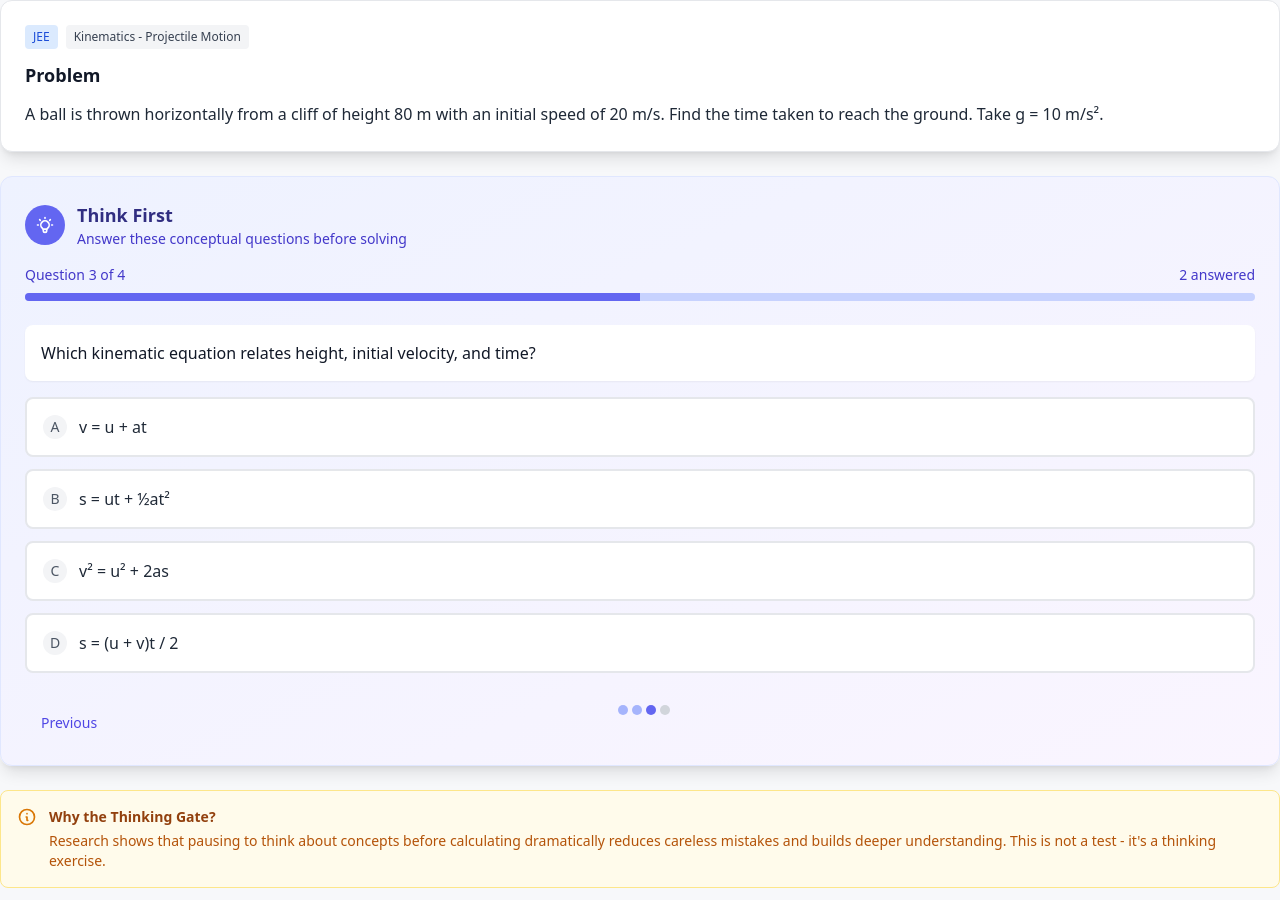
Test: DemoThinkingGate › Question Navigation › allows navigating back with Previous button
Check: the text "Which kinematic equation relates height, initial velocity, and time?" is shown, box x1=41 y1=342 x2=536 y2=364
# Click Previous
Click the button "Previous": (69, 723) x1=25 y1=705 x2=113 y2=741
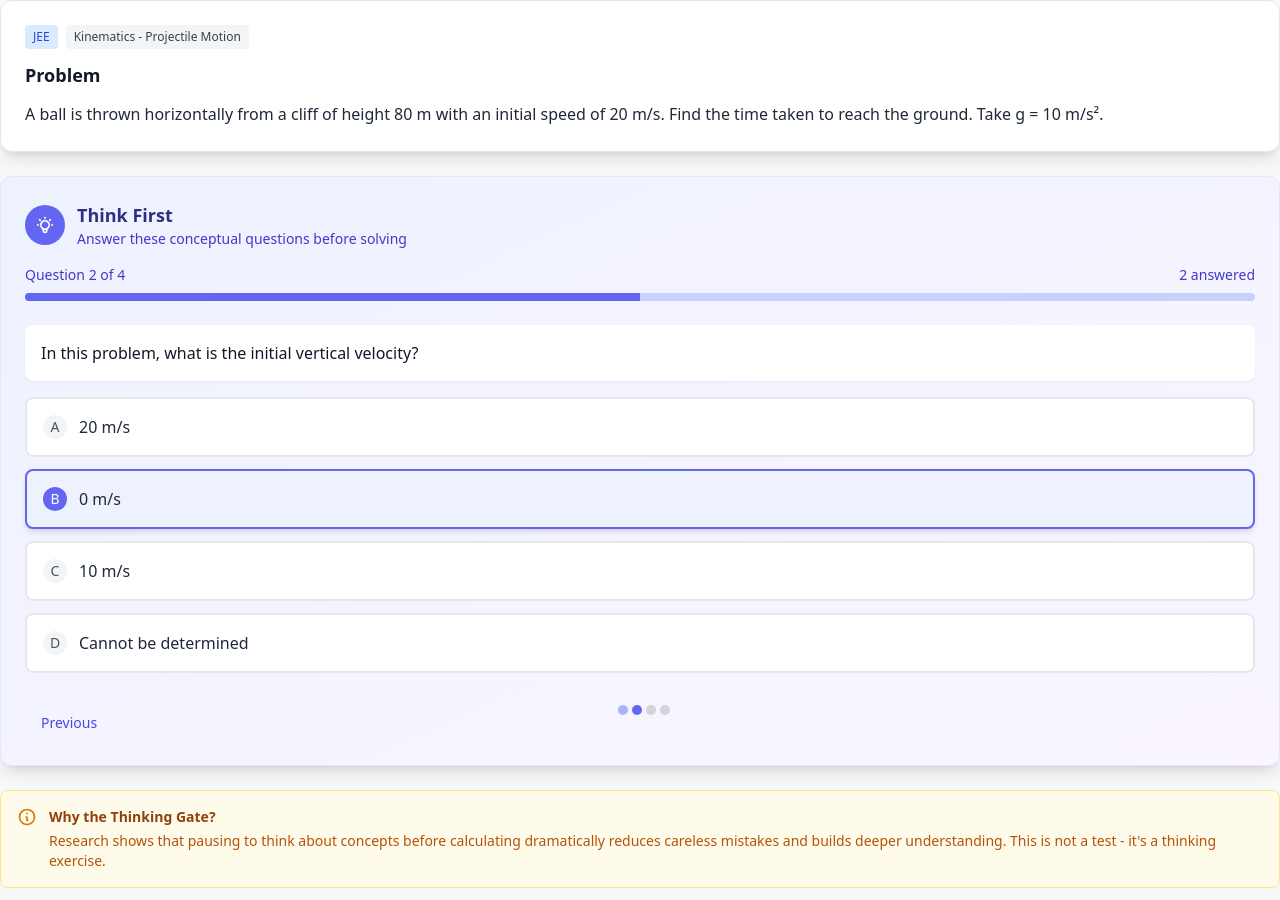
Check: the text "In this problem, what is the initial vertical velocity?" is shown, box x1=41 y1=342 x2=418 y2=364
